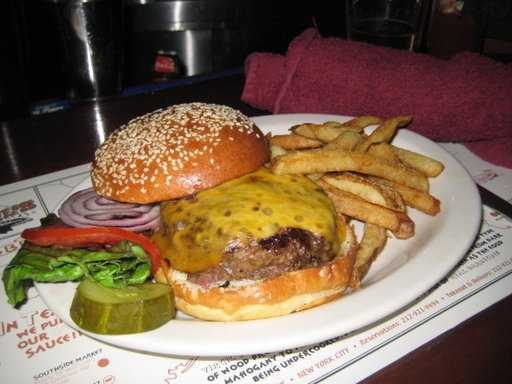hamburger: (110, 88, 323, 329)
